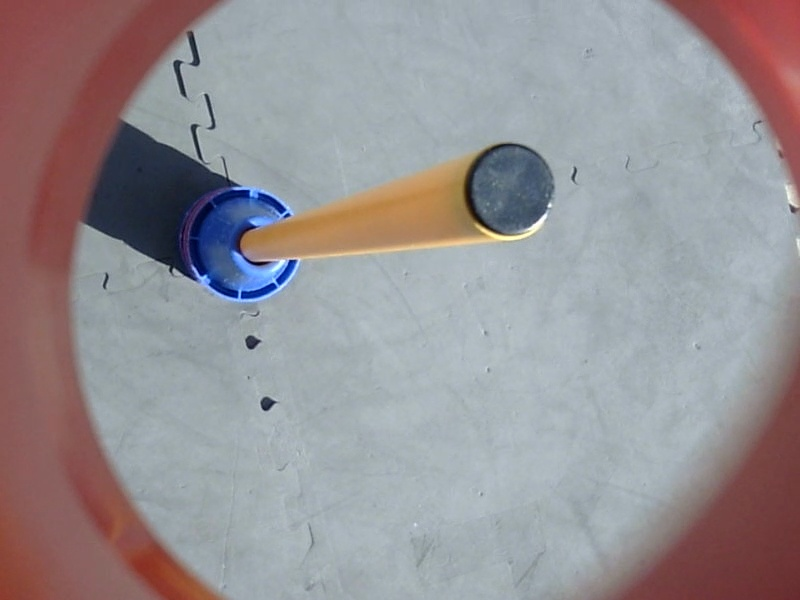tip: (459, 139, 560, 243)
